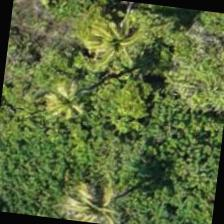Kelapa_Sawit: (13, 58, 113, 158), (55, 0, 156, 91), (55, 163, 153, 223)
